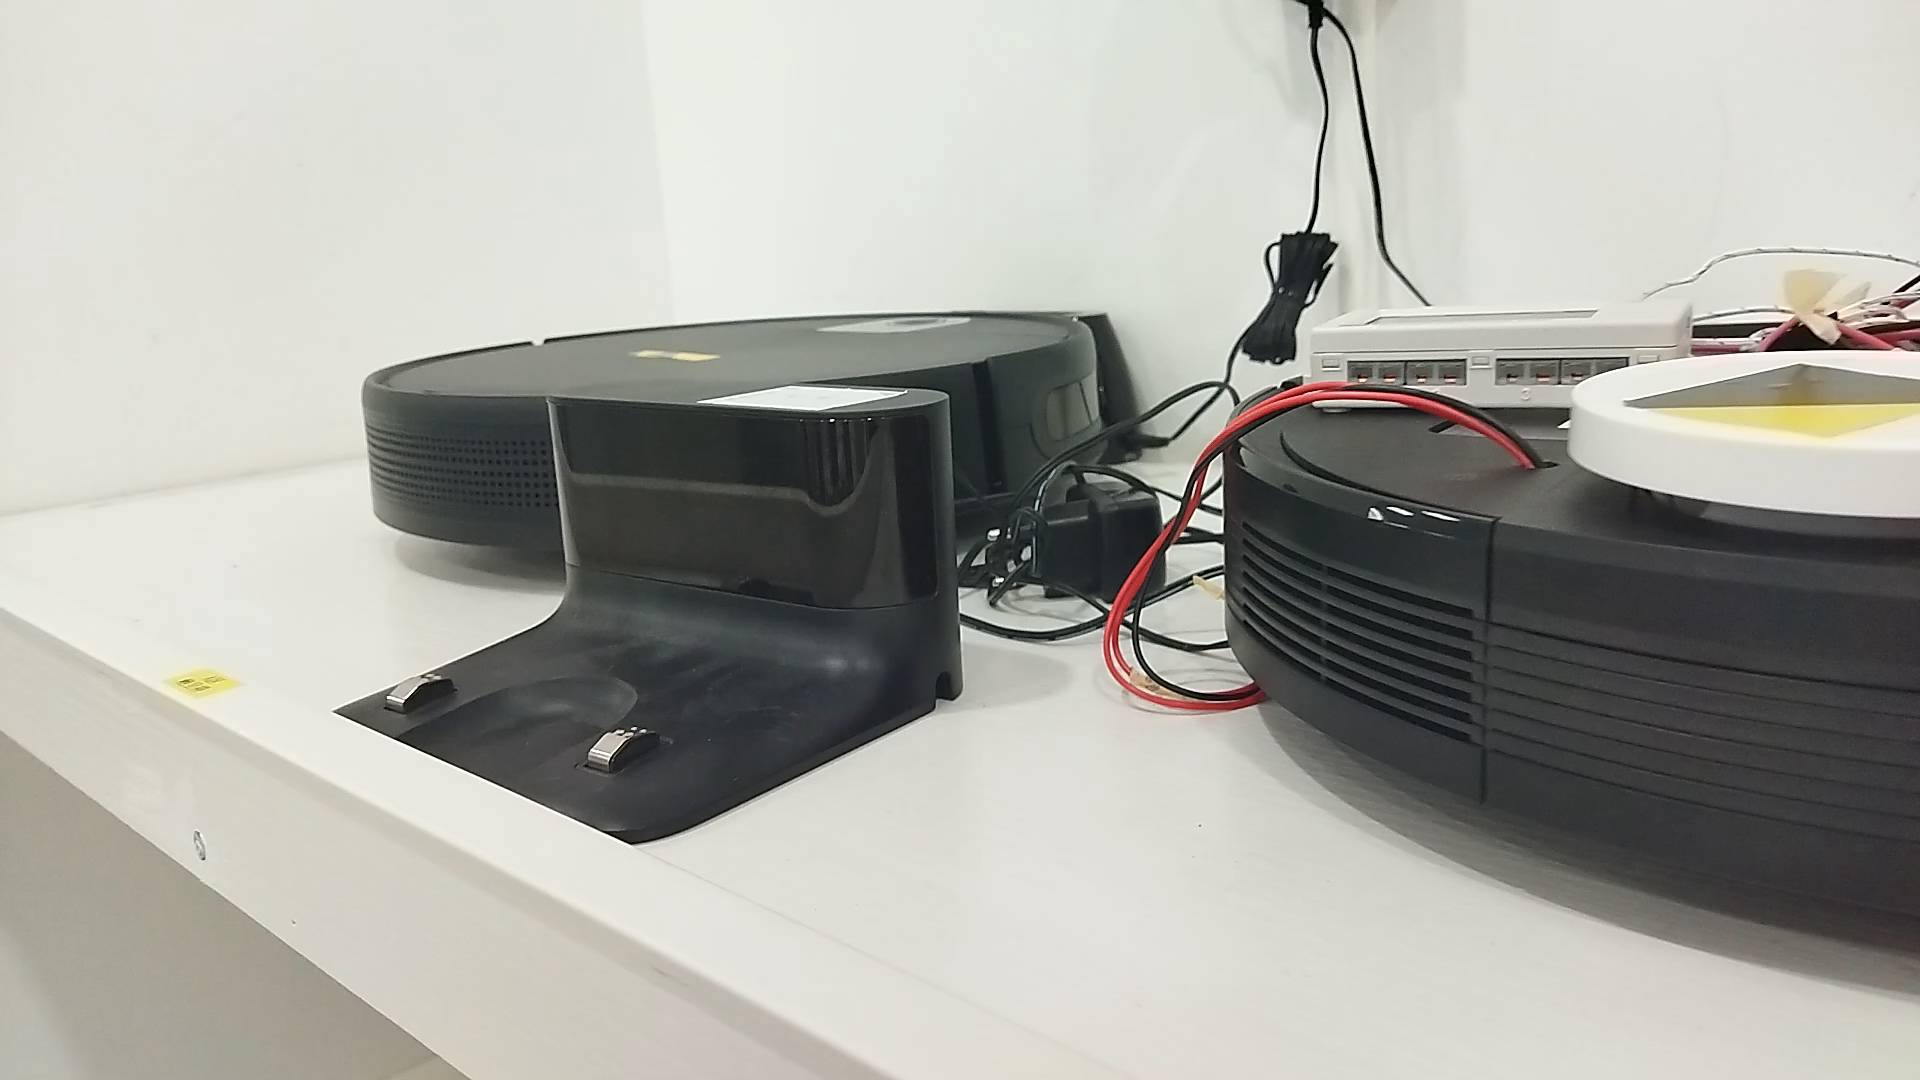recharge seat: (331, 376, 964, 843)
